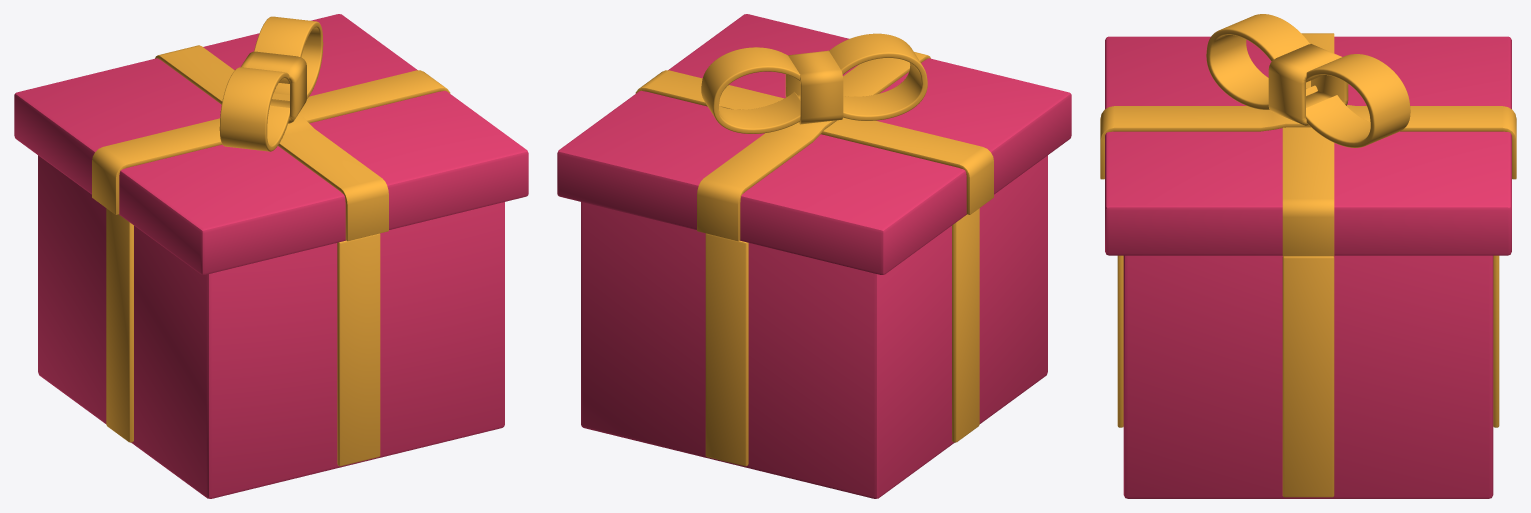
File: gift_box_handson.glb
The picture shows the model from 3 angles, left to right: view 1: azimuth 30°, elevation 25°; view 2: azimuth 150°, elevation 25°; view 3: azimuth 270°, elevation 25°; orthographic projection. The views are drawn at different scales.
Visible parts, largest first — view 1: Body, Lid; view 2: Body, Lid; view 3: Body, Lid.
Part boxes in pixels (x1,y1,x2,y2): Body: [38, 155, 504, 498]; Lid: [14, 14, 528, 274]; Body: [581, 155, 1047, 498]; Lid: [557, 14, 1071, 274]; Body: [1117, 255, 1499, 498]; Lid: [1100, 14, 1516, 256].
Bounding box in the file's own units: 2.25 × 2.25 × 2.25.
